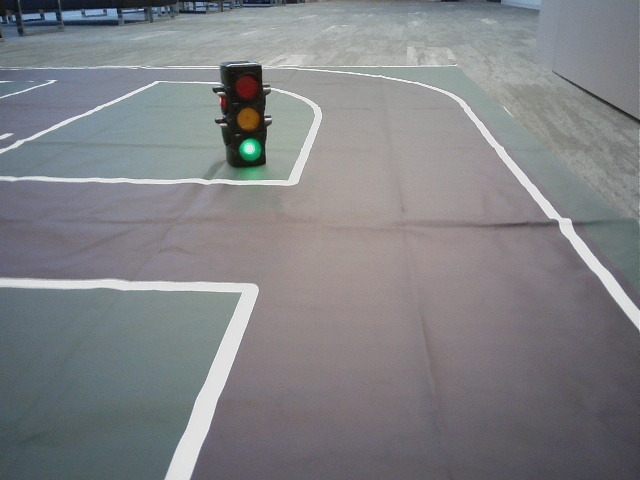green: (229, 70, 265, 164)
